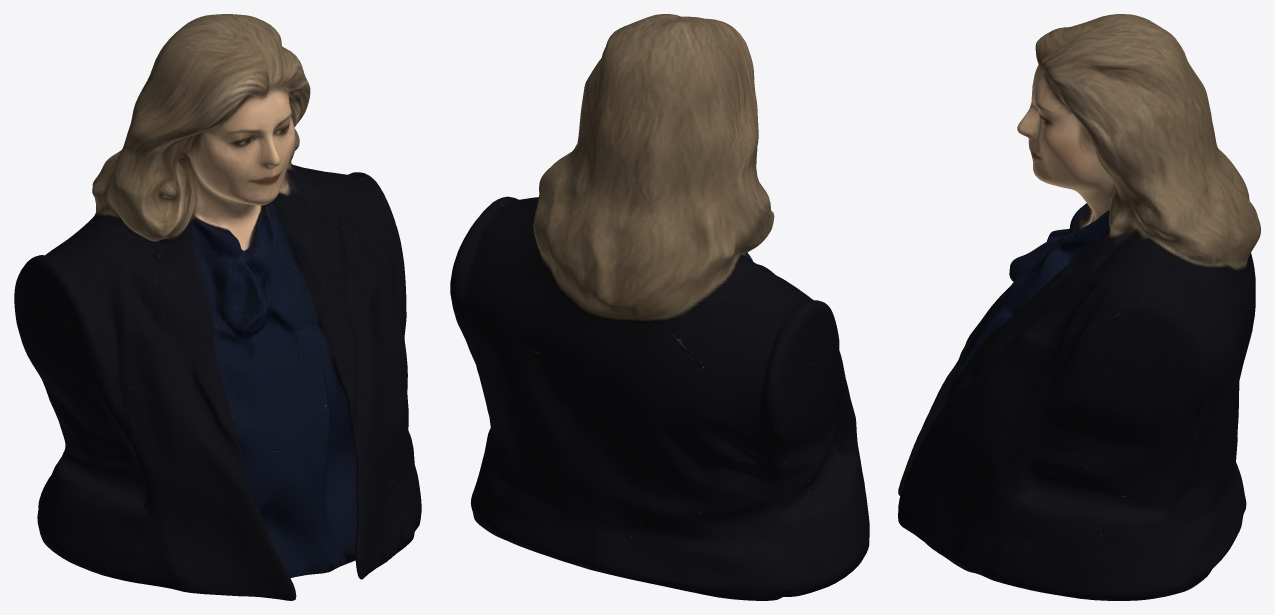
The picture shows the model from 3 angles, left to right: view 1: azimuth 30°, elevation 25°; view 2: azimuth 150°, elevation 25°; view 3: azimuth 270°, elevation 25°; orthographic projection. The views are drawn at different scales.
Size of the model in its own units: 1.4 by 1.9 by 1.26.
1 material, 1 textured.
